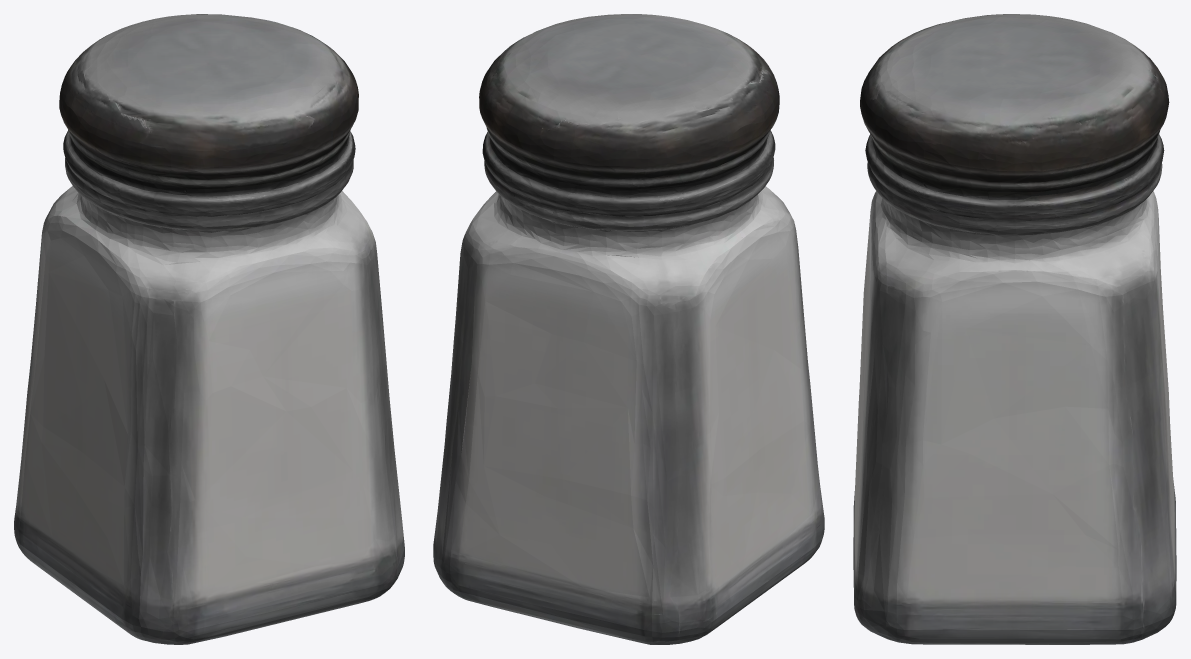
3 renders of one model, left to right at view 1: azimuth 30°, elevation 25°; view 2: azimuth 150°, elevation 25°; view 3: azimuth 270°, elevation 25°, orthographic. The views are drawn at different scales.
Parts seen in each view (by area): view 1: geometry_0; view 2: geometry_0; view 3: geometry_0.
Boxes of the visible parts, x1=… form: geometry_0: x1=14, y1=14, x2=404, y2=644; geometry_0: x1=433, y1=14, x2=824, y2=644; geometry_0: x1=853, y1=14, x2=1176, y2=644.
Bounding box in the file's own units: 0.5522 × 0.9971 × 0.5538.
1 material, 1 textured.
